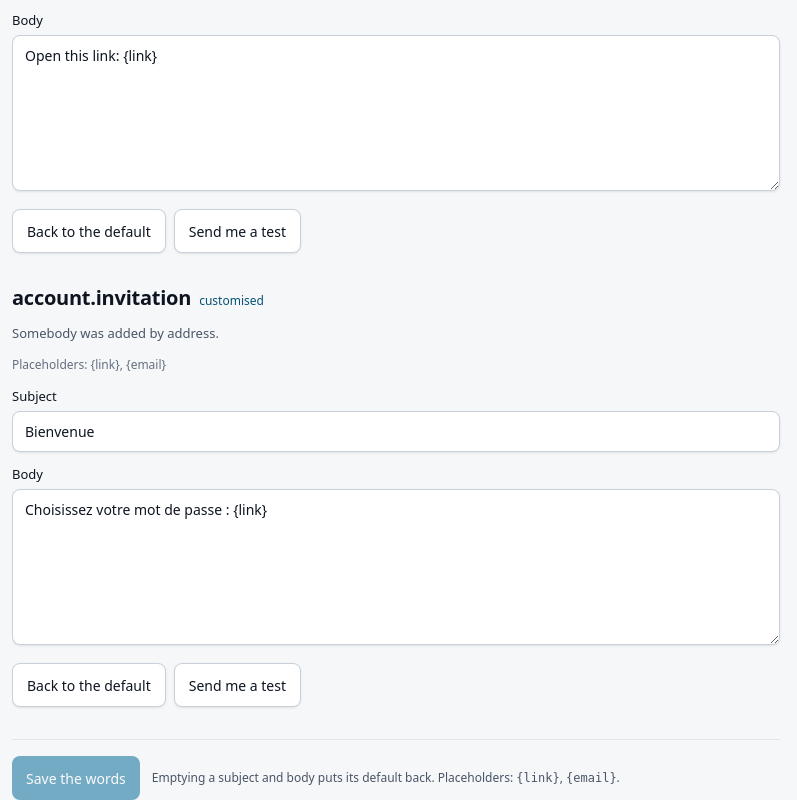
Scenario: the mail screen › sends a test of one kind to the administrator, and says where it went
The image size is (797, 800).
(page scrolled)
Step 1. Click the button with test id "test-account.invitation" → x=237, y=685, box [174, 663, 301, 707]
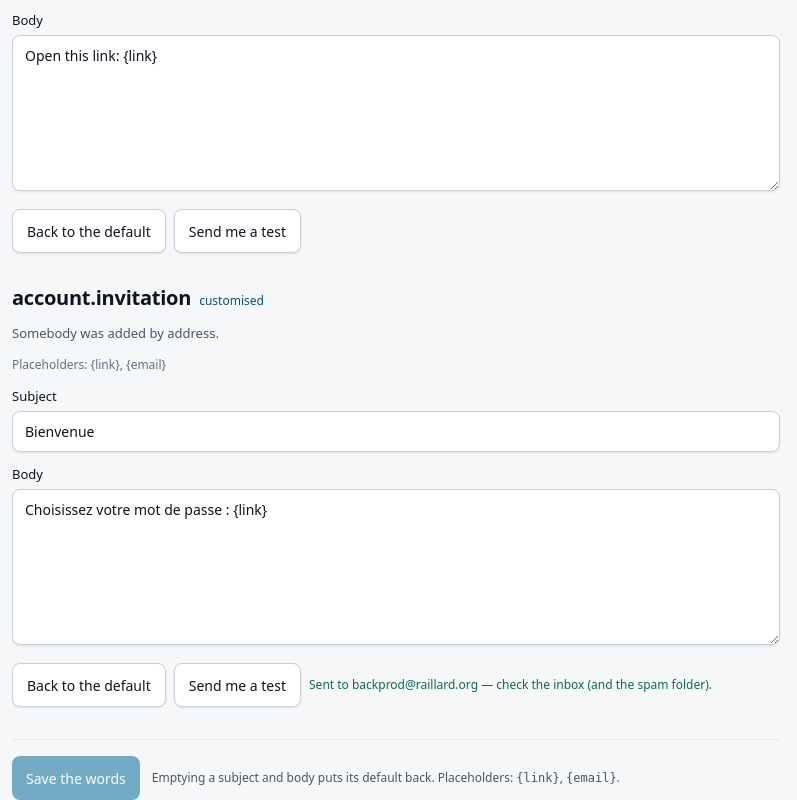
Result: the message "Sent to backprod@raillard.org — check the inbox (and the spam folder)." is shown at [309, 676, 712, 694]
Result: the message with test id "tested-account.invitation" shows "backprod@raillard.org" at [309, 676, 712, 693]
